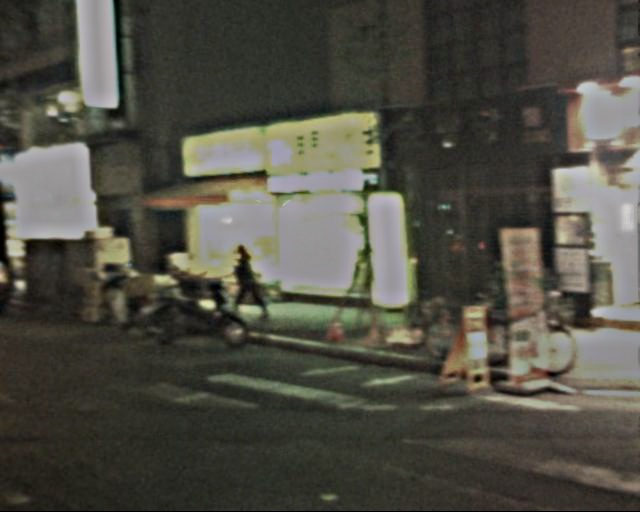person: (220, 240, 262, 323)
